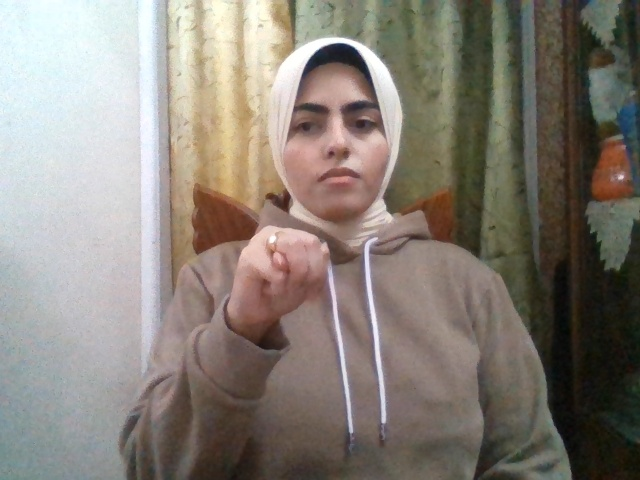M: (234, 225, 330, 325)
